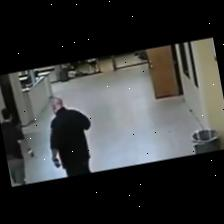person: (50, 97, 91, 176), (1, 108, 25, 184)
